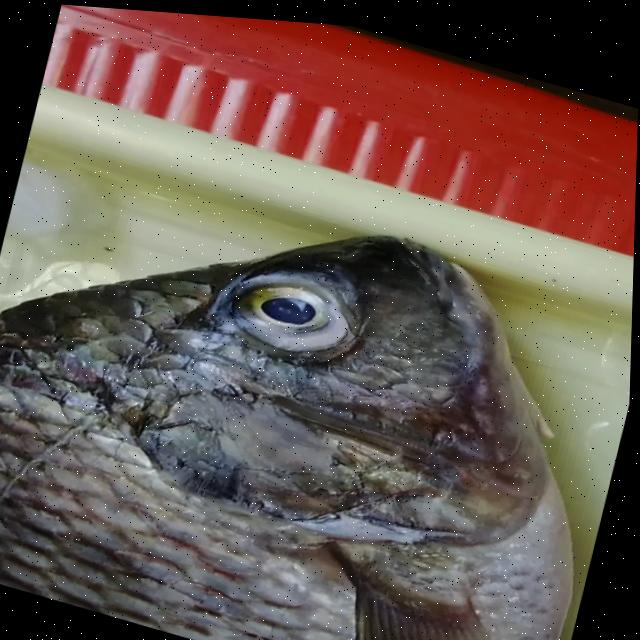Fresh: (210, 228, 409, 396)
